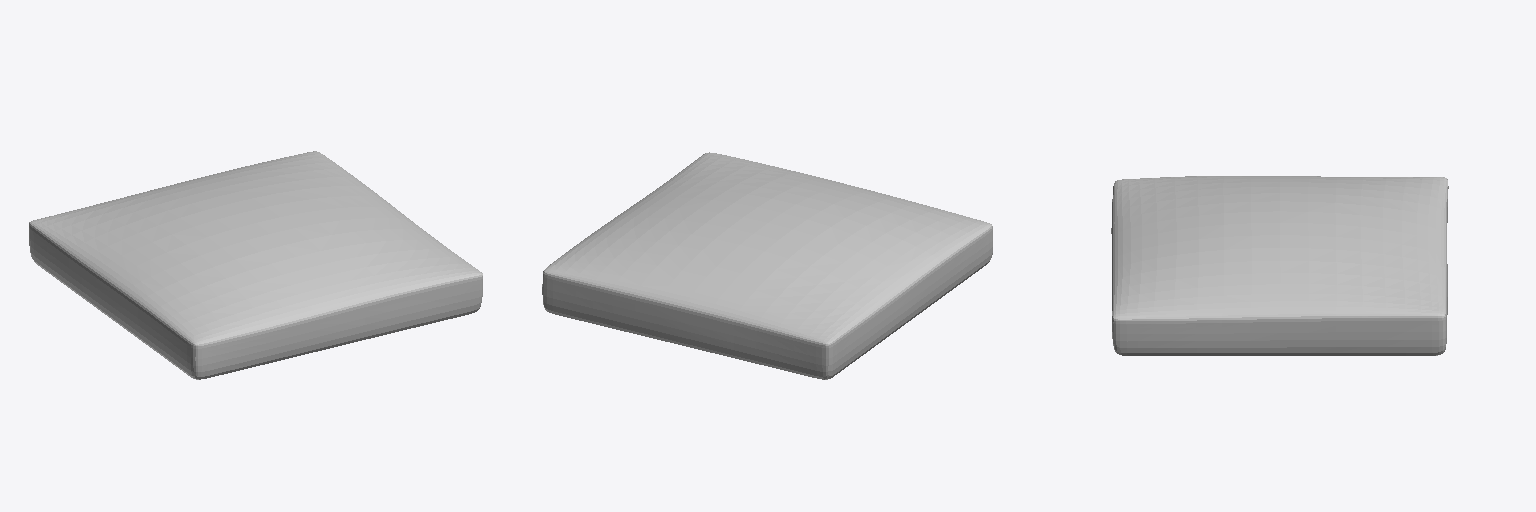
The model's file is smp-base.obj.
3 views of the same model, side by side, from view 1: azimuth 30°, elevation 25°; view 2: azimuth 150°, elevation 25°; view 3: azimuth 270°, elevation 25° (orthographic).
Parts seen in each view (by area): view 1: 10484_Baseball_Base_L3; view 2: 10484_Baseball_Base_L3; view 3: 10484_Baseball_Base_L3.
Boxes of the visible parts, <box> form: 10484_Baseball_Base_L3: <box>29,151,482,379</box>; 10484_Baseball_Base_L3: <box>542,152,992,379</box>; 10484_Baseball_Base_L3: <box>1111,176,1448,355</box>.
Size of the model in its own units: 1.91 by 0.4153 by 1.91.